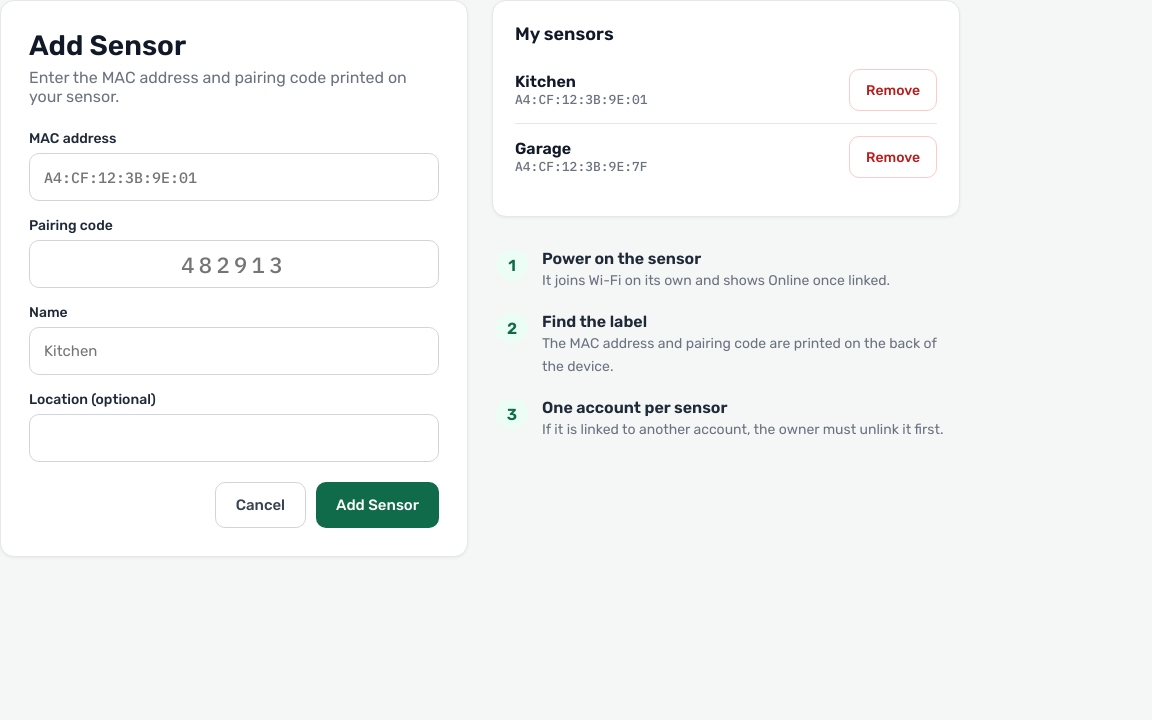
Test: AddSensor my sensors › removes after the second click, says so and loads the list again
Click the button "Remove" in the row of "Garage" at [893, 157], box [849,136,937,178]
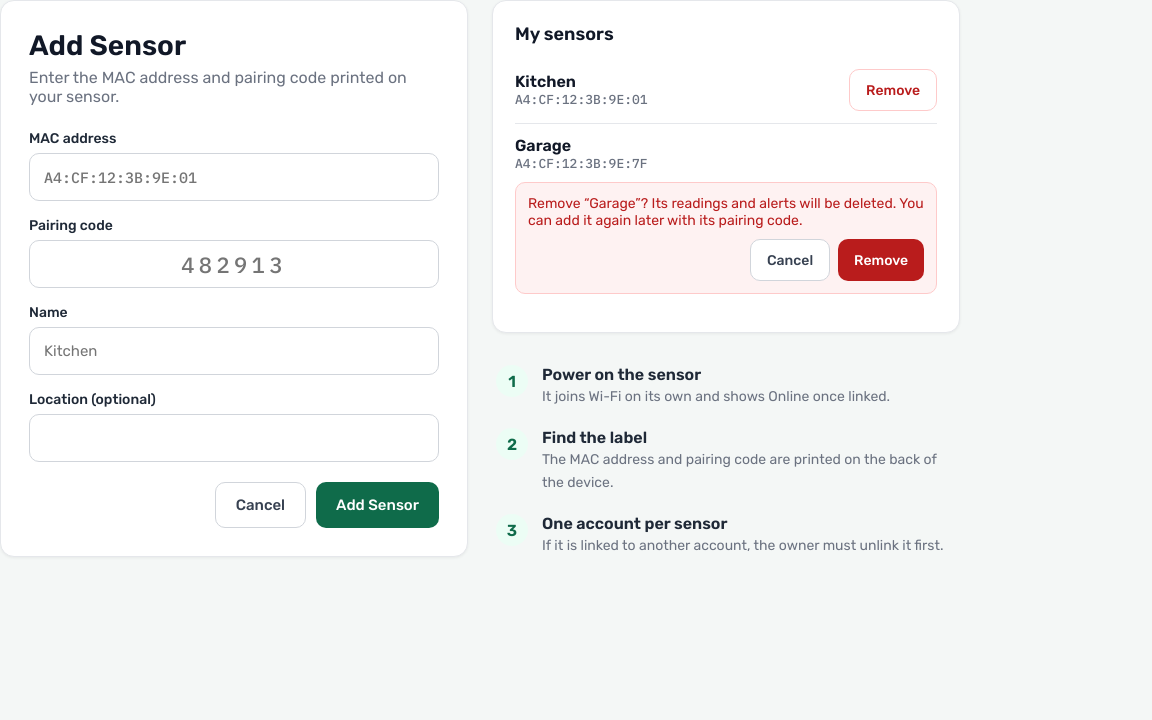
Click the button "Remove" below "A4:CF:12:3B:9E:7F" at [881, 260], box [838,239,924,281]
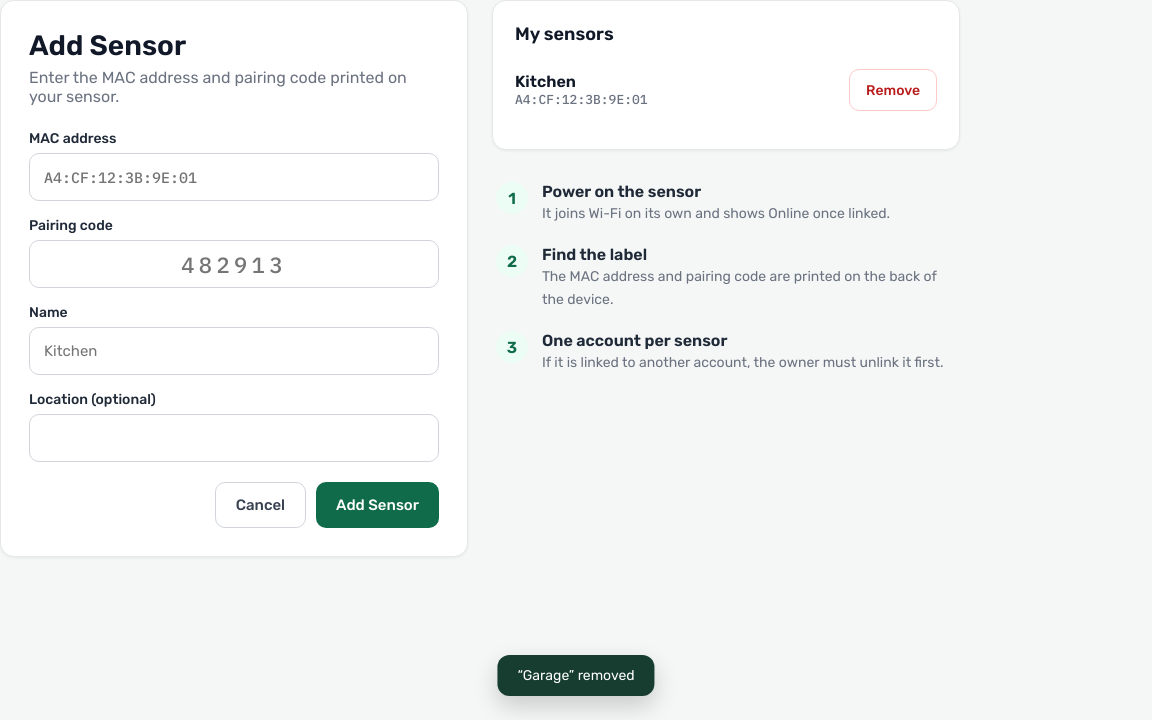
Check: the number of list items with class "sensor-row" is 1, box [515,57,937,123]
Check: the element with class "sensor-confirm" is gone
